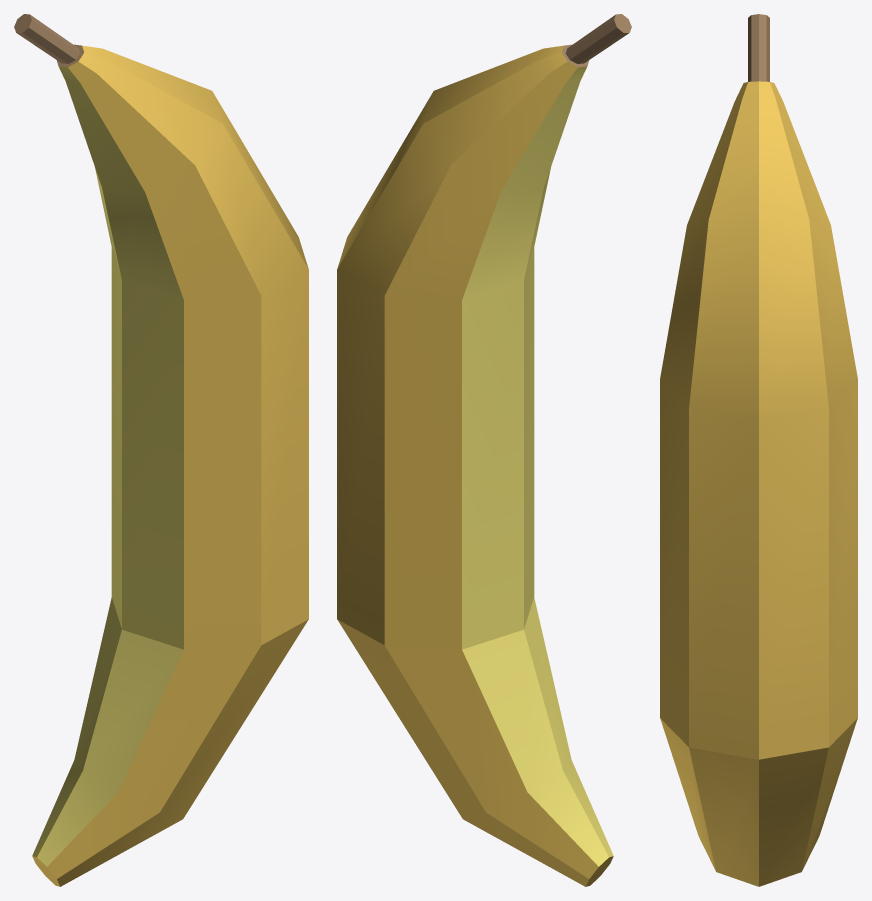
Rendered from banana.fbx.
3 views of the same model, side by side, from view 1: azimuth 30°, elevation 25°; view 2: azimuth 150°, elevation 25°; view 3: azimuth 270°, elevation 25° (orthographic). The views are drawn at different scales.
Parts seen in each view (by area): view 1: banana; view 2: banana; view 3: banana.
Part boxes in pixels (bbox=[...]): banana: bbox=[14, 14, 308, 886]; banana: bbox=[337, 14, 631, 886]; banana: bbox=[660, 14, 857, 886].
Bounding box in the file's own units: 0.3772 × 1.12 × 0.2359.
Materials: 1 (1 with a texture image).
